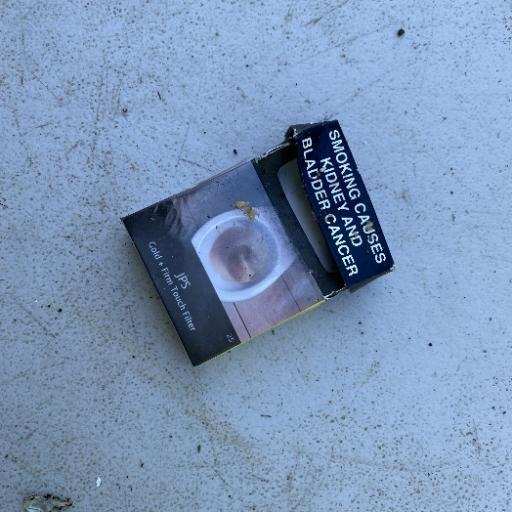Cardboard: (118, 118, 397, 370)
